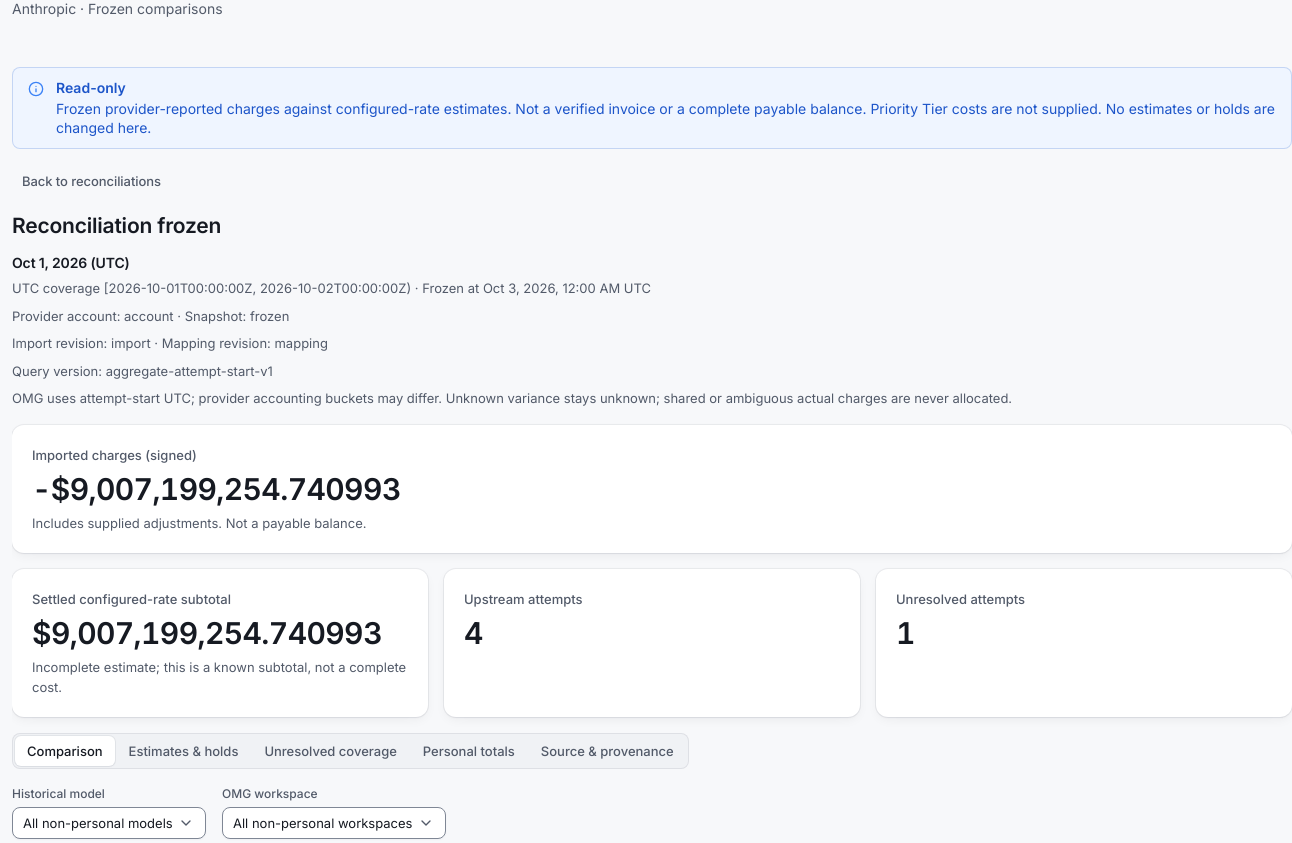
Scenario: provider-reported cost comparison › renders frozen exclusive and shared mapping provenance without inferring allocation
Click the tab "Source & provenance" at (607, 752), box [529, 736, 686, 766]
(page scrolled)
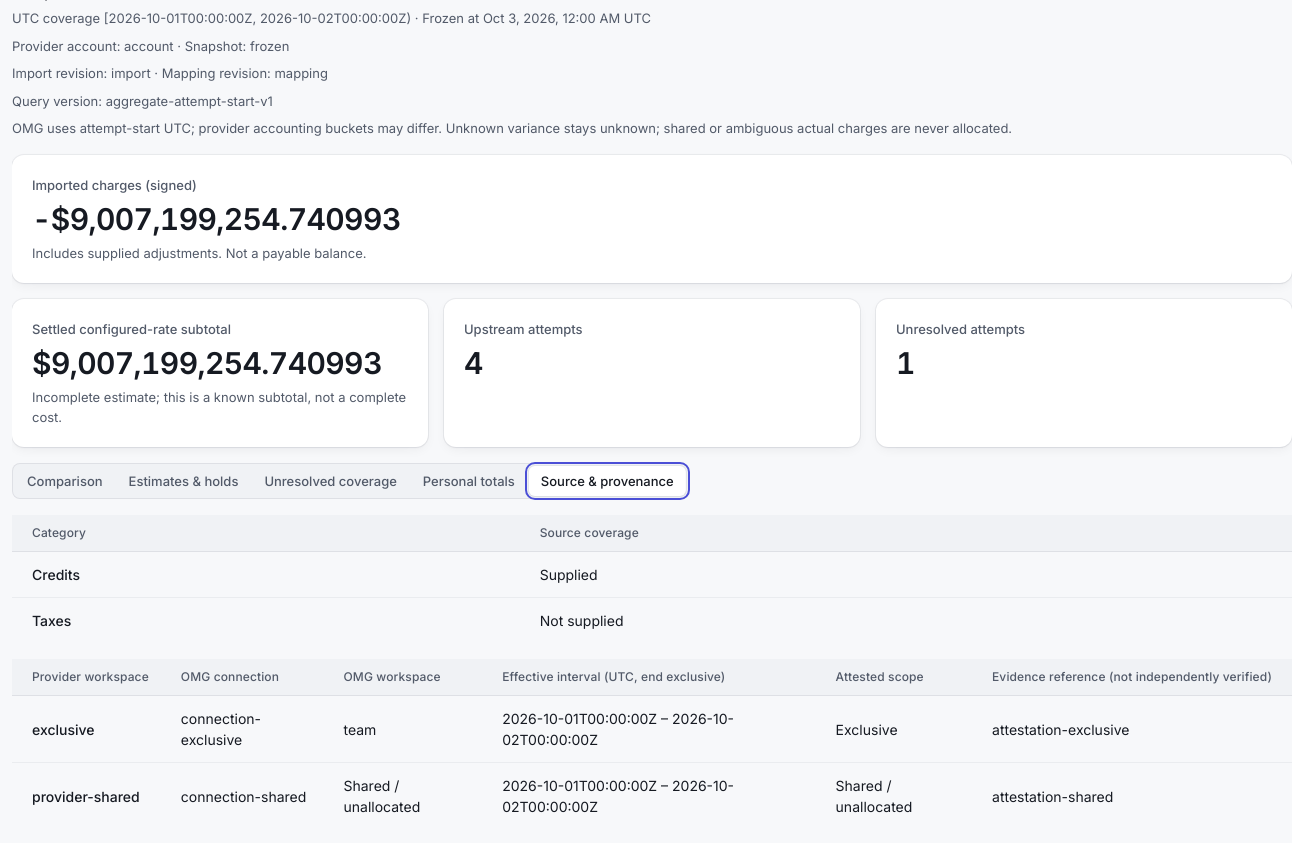
Result: the row that starts with "exclusive" shows "connection-exclusive" at [181, 710, 261, 748]
Result: the row that starts with "exclusive" shows "team" at [344, 721, 376, 738]
Result: the text "Exclusive" is shown at [820, 696, 976, 764]
